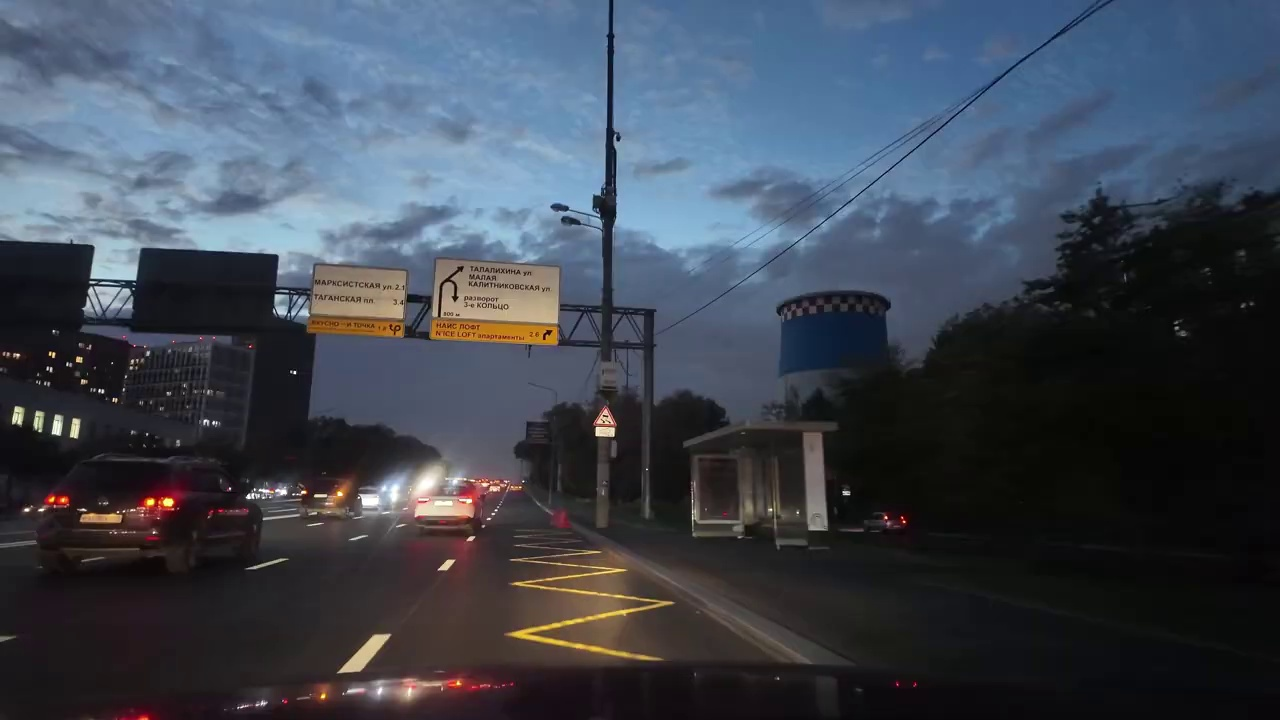acesa: (414, 470, 438, 499)
apagada: (542, 191, 591, 237)
